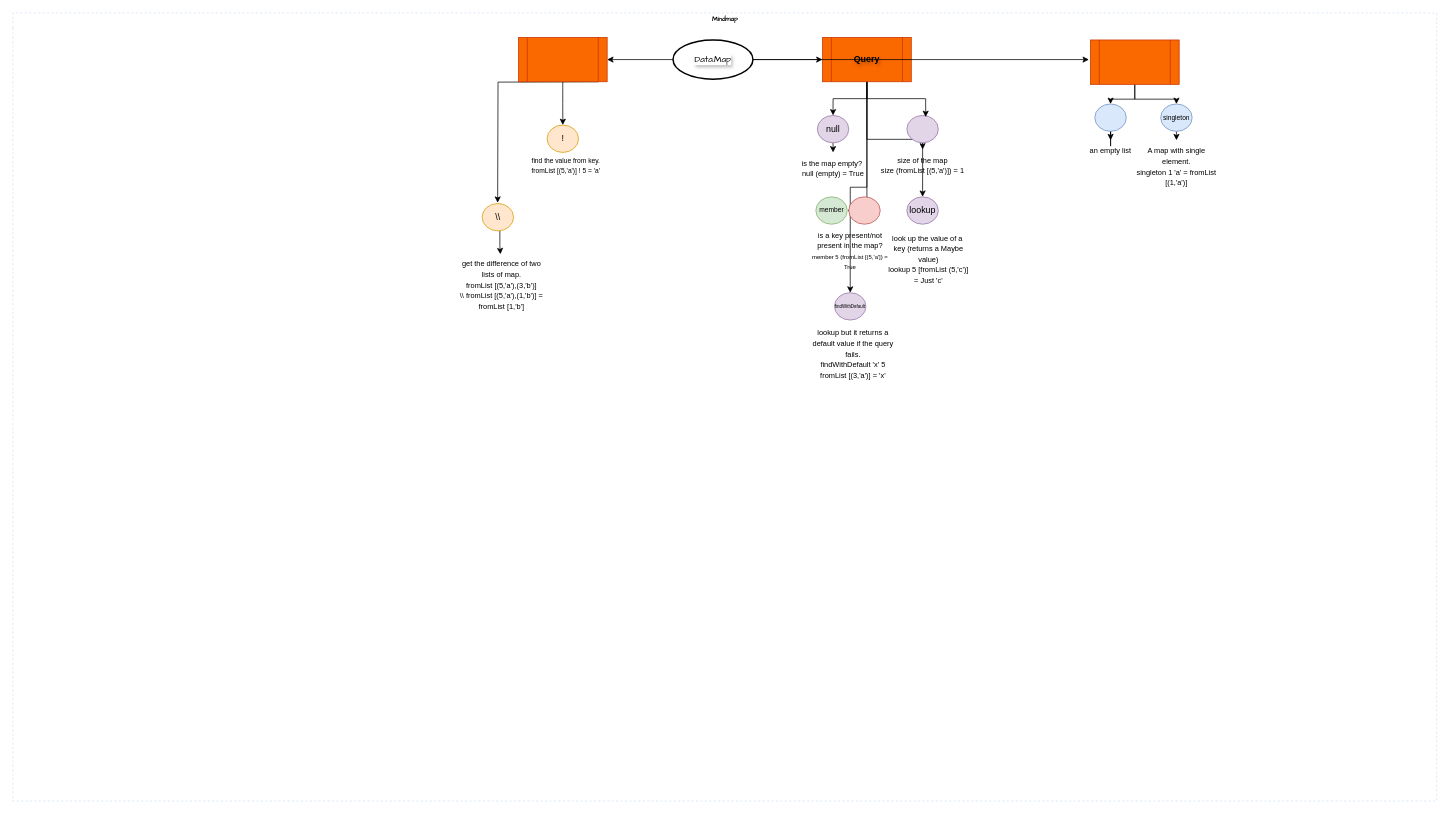
The diagram is 1450 pixels wide and 814 high, and some of its shapes have lost their labels. The shapes that lost their labels are listed below. From the top down, each one's centre as x and y in pixels, then its label:
At (562,59): "Operators".
At (1134,61): "Construction".
At (922,129): "size".
At (1110,117): "empty".
At (864,210): "notmember".
